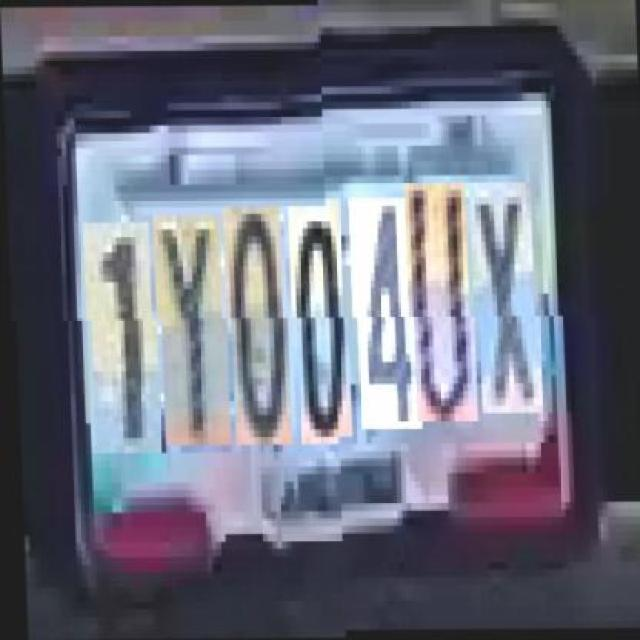1: (86, 222, 159, 453)
4: (352, 206, 419, 437)
o: (226, 207, 288, 445), (291, 206, 349, 445)
u: (407, 191, 475, 429)
x: (472, 190, 540, 422)
y: (155, 214, 228, 446)
